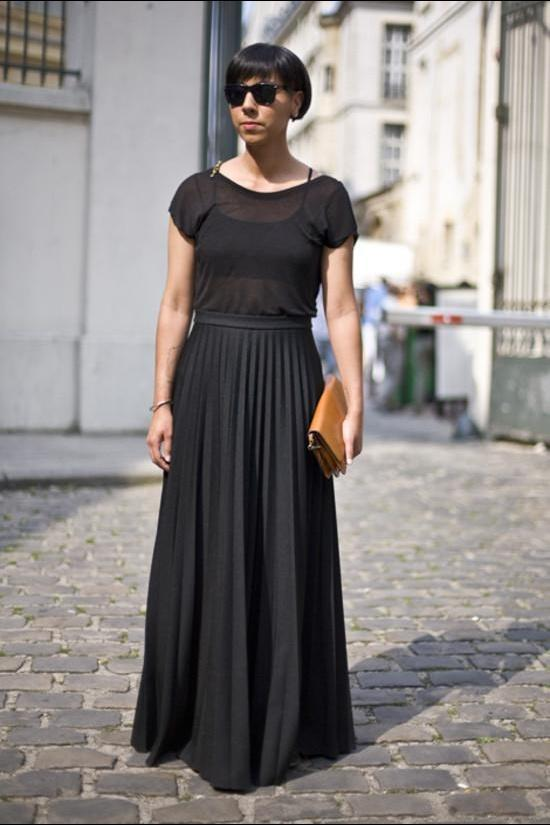Tshirt: (166, 169, 358, 321)
skirt: (128, 312, 358, 793)
